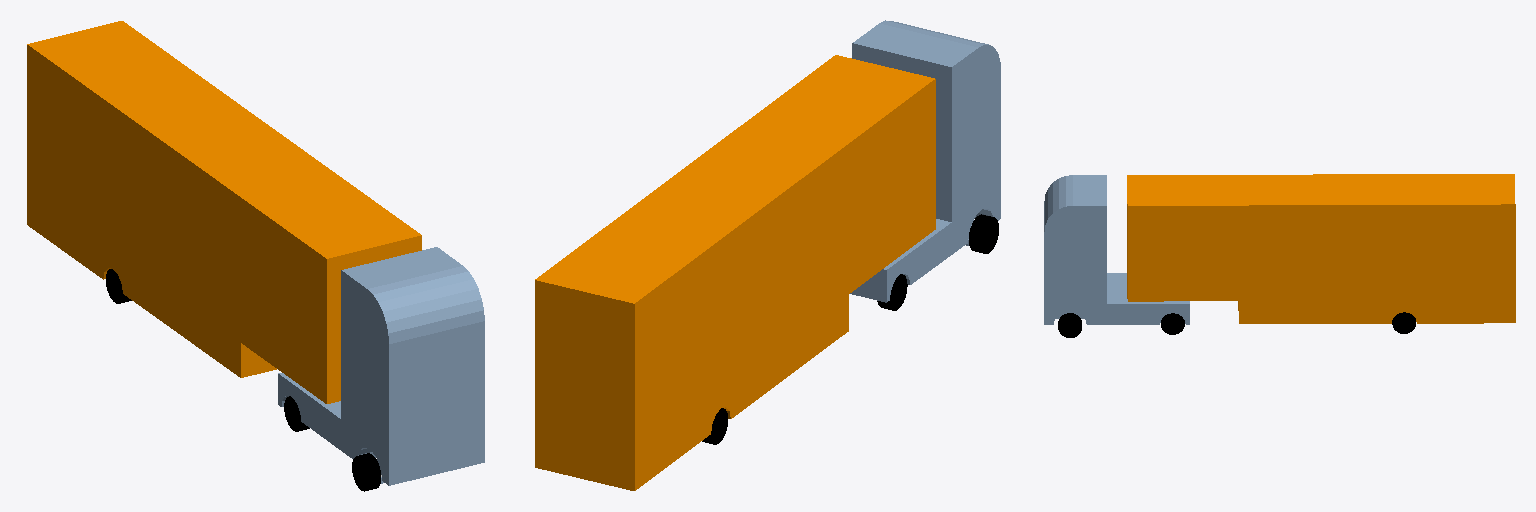
The robot description file, URDF, robot "TT":
<?xml version="1.0" encoding="utf-8"?>
<robot
  name="TT">
      <!-- Colors --> 
  <material name="black"> 
      <color rgba="0 0 0 1"/>
  </material>
  <material name="blue"> 
      <color rgba="0.6 0.7 0.8 0.9"/>
  </material>
  <material name="yellow"> 
      <color rgba="1 0.6 0 0.9"/>
  </material>
  <link
    name="base_link">
    <inertial>
      <origin
        xyz="-2.4406 -4.7902 -0.31232"
        rpy="0 0 0" />
      <mass
        value="16000" />
      <inertia
        ixx="103290"
        ixy="-5.3338E-12"
        ixz="1.5499E-13"
        iyy="74340"
        iyz="21268"
        izz="61126" />
    </inertial>
    <visual>
      <origin
        xyz="0 0 0"
        rpy="0 0 0" />
      <geometry>
        <mesh
          filename="package://TT/meshes/base_link.STL" />
      </geometry>
      <material
        name="blue">
        <!--color
          rgba=" 39 172 245 0.6" /-->
      </material>
    </visual>
    <collision>
      <origin
        xyz="0 0 0"
        rpy="0 0 0" />
      <geometry>
        <mesh
          filename="package://TT/meshes/base_link.STL" />
      </geometry>
    </collision>
  </link>
  <link
    name="Left_Hinge">
    <inertial>
      <origin
        xyz="0.044267 -0.15 0"
        rpy="0 0 0" />
      <mass
        value="11.976" />
      <inertia
        ixx="0.15149"
        ixy="4.7995E-18"
        ixz="-2.2287E-18"
        iyy="0.23945"
        iyz="-1.7421E-34"
        izz="0.23529" />
    </inertial>
    <visual>
      <origin
        xyz="0 0 0"
        rpy="0 0 0" />
      <geometry>
        <mesh
          filename="package://TT/meshes/Left_Hinge.STL" />
      </geometry>
      <material
        name="">
        <color
          rgba="1 1 1 1" />
      </material>
    </visual>
    <collision>
      <origin
        xyz="0 0 0"
        rpy="0 0 0" />
      <geometry>
        <mesh
          filename="package://TT/meshes/Left_Hinge.STL" />
      </geometry>
    </collision>
  </link>
  <joint
    name="base_to_left_hinge"
    type="revolute">
    <origin
      xyz="-1.4156 -5.504 -2.0935"
      rpy="1.5708 0 0" />
    <parent
      link="base_link" />
    <child
      link="Left_Hinge" />
    <axis
      xyz="0 1 0" />
    <limit
      lower="-0.55"
      upper="0.55"
      effort="0"
      velocity="0.713" />
  </joint>
  <link
    name="left_front_tire">
    <inertial>
      <origin
        xyz="0.15107 8.8818E-16 -1.7764E-15"
        rpy="0 0 0" />
      <mass
        value="16" />
      <inertia
        ixx="14.659"
        ixy="6.5806E-16"
        ixz="-9.8805E-16"
        iyy="8.5568"
        iyz="-4.4409E-16"
        izz="8.5568" />
    </inertial>
    <visual>
      <origin
        xyz="0 0 0"
        rpy="0 0 0" />
      <geometry>
        <mesh
          filename="package://TT/meshes/left_front_tire.STL" />
      </geometry>
      <material
        name="">
        <color
          rgba="0 0 0 1" />
      </material>
    </visual>
    <collision>
      <origin
        xyz="0 0 0"
        rpy="0 0 0" />
      <geometry>
        <mesh
          filename="package://TT/meshes/left_front_tire.STL" />
      </geometry>
    </collision>
  </link>
  <joint
    name="left_hinge_to_tire"
    type="continuous">
    <origin
      xyz="0.175 -0.15 0"
      rpy="1.1065 0 0" />
    <parent
      link="Left_Hinge" />
    <child
      link="left_front_tire" />
    <axis
      xyz="1 0 0" />
  </joint>
  <link
    name="Right_Hinge">
    <inertial>
      <origin
        xyz="0.044267 -0.15 8.8818E-16"
        rpy="0 0 0" />
      <mass
        value="11.976" />
      <inertia
        ixx="0.15149"
        ixy="-1.3253E-17"
        ixz="1.9137E-18"
        iyy="0.23945"
        iyz="-4.3647E-18"
        izz="0.23529" />
    </inertial>
    <visual>
      <origin
        xyz="0 0 0"
        rpy="0 0 0" />
      <geometry>
        <mesh
          filename="package://TT/meshes/Right_Hinge.STL" />
      </geometry>
      <material
        name="">
        <color
          rgba="1 1 1 1" />
      </material>
    </visual>
    <collision>
      <origin
        xyz="0 0 0"
        rpy="0 0 0" />
      <geometry>
        <mesh
          filename="package://TT/meshes/Right_Hinge.STL" />
      </geometry>
    </collision>
  </link>
  <joint
    name="base_to_right_hinge"
    type="revolute">
    <origin
      xyz="-3.4656 -5.504 -2.0935"
      rpy="1.5708 0 3.1416" />
    <parent
      link="base_link" />
    <child
      link="Right_Hinge" />
    <axis
      xyz="0 1 0" />
    <limit
      lower="-0.55"
      upper="0.55"
      effort="0"
      velocity="0.7103" />
  </joint>
  <link
    name="right_front_tire">
    <inertial>
      <origin
        xyz="0.15107 8.8818E-16 8.8818E-16"
        rpy="0 0 0" />
      <mass
        value="16" />
      <inertia
        ixx="14.659"
        ixy="4.2107E-16"
        ixz="-1.0042E-15"
        iyy="8.5568"
        iyz="-8.8818E-16"
        izz="8.5568" />
    </inertial>
    <visual>
      <origin
        xyz="0 0 0"
        rpy="0 0 0" />
      <geometry>
        <mesh
          filename="package://TT/meshes/right_front_tire.STL" />
      </geometry>
      <material
        name="">
        <color
          rgba="0 0 0 1" />
      </material>
    </visual>
    <collision>
      <origin
        xyz="0 0 0"
        rpy="0 0 0" />
      <geometry>
        <mesh
          filename="package://TT/meshes/right_front_tire.STL" />
      </geometry>
    </collision>
  </link>
  <joint
    name="right_hinge_to_tire"
    type="continuous">
    <origin
      xyz="0.175 -0.15 0"
      rpy="-2.107 0 0" />
    <parent
      link="Right_Hinge" />
    <child
      link="right_front_tire" />
    <axis
      xyz="-1 0 0" />
  </joint>
  <link
    name="Left_Rear_Tire">
    <inertial>
      <origin
        xyz="-0.14893 -1.1102E-16 0"
        rpy="0 0 0" />
      <mass
        value="16" />
      <inertia
        ixx="14.659"
        ixy="8.0908E-17"
        ixz="2.6649E-16"
        iyy="8.5568"
        iyz="8.8818E-16"
        izz="8.5568" />
    </inertial>
    <visual>
      <origin
        xyz="0 0 0"
        rpy="0 0 0" />
      <geometry>
        <mesh
          filename="package://TT/meshes/Left_Rear_Tire.STL" />
      </geometry>
      <material
        name="">
        <color
          rgba="0 0 0 1" />
      </material>
    </visual>
    <collision>
      <origin
        xyz="0 0 0"
        rpy="0 0 0" />
      <geometry>
        <mesh
          filename="package://TT/meshes/Left_Rear_Tire.STL" />
      </geometry>
    </collision>
  </link>
  <joint
    name="base_to_left_rear_tire"
    type="continuous">
    <origin
      xyz="-1.2156 -1.904 -2.2435"
      rpy="2.0942 0 0" />
    <parent
      link="base_link" />
    <child
      link="Left_Rear_Tire" />
    <axis
      xyz="1 0 0" />
  </joint>
  <link
    name="Right_Rear_Tire">
    <inertial>
      <origin
        xyz="0.15107 2.2204E-16 8.8818E-16"
        rpy="0 0 0" />
      <mass
        value="16" />
      <inertia
        ixx="14.659"
        ixy="-3.1348E-17"
        ixz="-4.5026E-17"
        iyy="8.5568"
        iyz="1.7764E-15"
        izz="8.5568" />
    </inertial>
    <visual>
      <origin
        xyz="0 0 0"
        rpy="0 0 0" />
      <geometry>
        <mesh
          filename="package://TT/meshes/Right_Rear_Tire.STL" />
      </geometry>
      <material
        name="">
        <color
          rgba="0 0 0 1" />
      </material>
    </visual>
    <collision>
      <origin
        xyz="0 0 0"
        rpy="0 0 0" />
      <geometry>
        <mesh
          filename="package://TT/meshes/Right_Rear_Tire.STL" />
      </geometry>
    </collision>
  </link>
  <joint
    name="base_to_right_rear_tire"
    type="continuous">
    <origin
      xyz="-3.3656 -1.904 -2.2435"
      rpy="1.3179 0 3.1416" />
    <parent
      link="base_link" />
    <child
      link="Right_Rear_Tire" />
    <axis
      xyz="1 0 0" />
  </joint>
  <link
    name="Trailer">
    <inertial>
      <origin
        xyz="5.9508E-14 0.17326 -5.4942"
        rpy="0 0 0" />
      <mass
        value="12000" />
      <inertia
        ixx="2459700"
        ixy="9.4292E-10"
        ixz="2.3363E-08"
        iyy="2294600"
        iyz="-85390"
        izz="327600" />
    </inertial>
    <visual>
      <origin
        xyz="0 0 0"
        rpy="0 0 0" />
      <geometry>
        <mesh
          filename="package://TT/meshes/Trailer.STL" />
      </geometry>
      <material
        name="yellow">
        <!--color
          rgba="245 121 39 0.8" /-->
      </material>
    </visual>
    <collision>
      <origin
        xyz="0 0 0"
        rpy="0 0 0" />
      <geometry>
        <mesh
          filename="package://TT/meshes/Trailer.STL" />
      </geometry>
    </collision>
  </link>
  <joint
    name="Tractor_to_Trailer"
    type="revolute">
    <origin
      xyz="-2.4406 -1.904 0"
      rpy="1.5708 0 0.0093775" />
    <parent
      link="base_link" />
    <child
      link="Trailer" />
    <axis
      xyz="0 1 0" />
    <limit
      lower="-1.57"
      upper="1.57"
      effort="0"
      velocity="0" />
  </joint>
  <link
    name="Trailer_Left_Tire">
    <inertial>
      <origin
        xyz="0.15105 -5.1514E-14 -3.1974E-14"
        rpy="0 0 0" />
      <mass
        value="16" />
      <inertia
        ixx="14.659"
        ixy="4.8916E-18"
        ixz="6.5135E-14"
        iyy="8.5568"
        iyz="2.5319E-29"
        izz="8.5568" />
    </inertial>
    <visual>
      <origin
        xyz="0 0 0"
        rpy="0 0 0" />
      <geometry>
        <mesh
          filename="package://TT/meshes/Trailer_Left_Tire.STL" />
      </geometry>
      <material
        name="">
        <color
          rgba="0 0 0 1" />
      </material>
    </visual>
    <collision>
      <origin
        xyz="0 0 0"
        rpy="0 0 0" />
      <geometry>
        <mesh
          filename="package://TT/meshes/Trailer_Left_Tire.STL" />
      </geometry>
    </collision>
  </link>
  <joint
    name="trailer_to_left_tire"
    type="continuous">
    <origin
      xyz="0.92503 -2.2435 -8.1"
      rpy="0 0 0" />
    <parent
      link="Trailer" />
    <child
      link="Trailer_Left_Tire" />
    <axis
      xyz="1 0 0" />
  </joint>
  <link
    name="Trailer_Right_Tire">
    <inertial>
      <origin
        xyz="0.15105 2.0428E-14 5.7288E-14"
        rpy="0 0 0" />
      <mass
        value="16" />
      <inertia
        ixx="14.659"
        ixy="5.014E-14"
        ixz="1.9098E-14"
        iyy="8.5568"
        iyz="4.4409E-16"
        izz="8.5568" />
    </inertial>
    <visual>
      <origin
        xyz="0 0 0"
        rpy="0 0 0" />
      <geometry>
        <mesh
          filename="package://TT/meshes/Trailer_Right_Tire.STL" />
      </geometry>
      <material
        name="">
        <color
          rgba="0 0 0 1" />
      </material>
    </visual>
    <collision>
      <origin
        xyz="0 0 0"
        rpy="0 0 0" />
      <geometry>
        <mesh
          filename="package://TT/meshes/Trailer_Right_Tire.STL" />
      </geometry>
    </collision>
  </link>
  <joint
    name="trailer_to_right_tire"
    type="continuous">
    <origin
      xyz="-0.92503 -2.2435 -8.1"
      rpy="-1.8703 0 3.1416" />
    <parent
      link="Trailer" />
    <child
      link="Trailer_Right_Tire" />
    <axis
      xyz="1 0 0" />
  </joint>
</robot>

--- What the picture shows (computed from the rendered views, not written in the file) ---
3 views of the same robot in one strip: view 1: azimuth 30°, elevation 25°; view 2: azimuth 150°, elevation 25°; view 3: azimuth 270°, elevation 25° (orthographic).
Robot: TT — 10 links, 9 joints (3 revolute, 6 continuous); root link base_link; default pose: every joint at zero.
Links seen in each view (by area): view 1: Trailer, base_link, right_front_tire; view 2: Trailer, base_link, right_front_tire, Right_Rear_Tire; view 3: Trailer, base_link.
Link boxes in pixels (bbox=[...]): Trailer: bbox=[27, 21, 421, 403]; base_link: bbox=[278, 247, 484, 485]; right_front_tire: bbox=[352, 453, 380, 491]; Trailer: bbox=[535, 55, 935, 490]; base_link: bbox=[850, 20, 1000, 302]; right_front_tire: bbox=[969, 214, 998, 253]; Right_Rear_Tire: bbox=[877, 274, 907, 310]; Trailer: bbox=[1127, 174, 1515, 323]; base_link: bbox=[1044, 175, 1189, 324].
Size in the robot's own frame: 3 by 16.51 by 5.02 metres.
Meshes: 10 distinct files referenced, 10 mesh visuals loaded (10 binary STL).